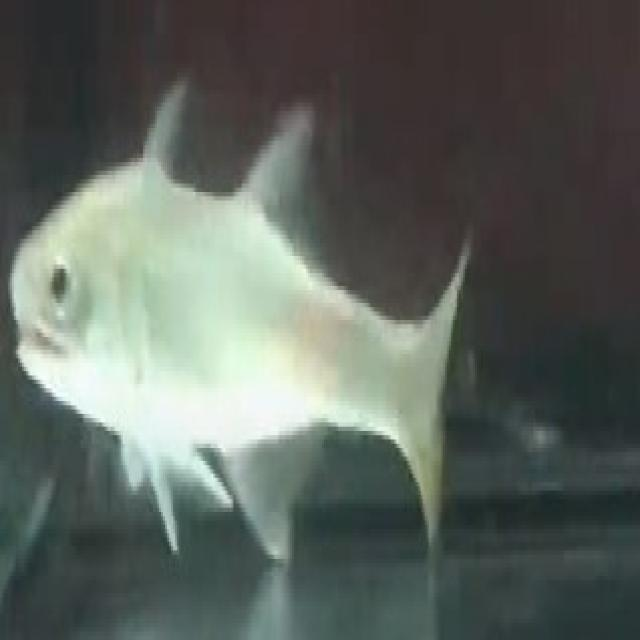Fourfinger-Threadfin: (2, 61, 504, 604)
